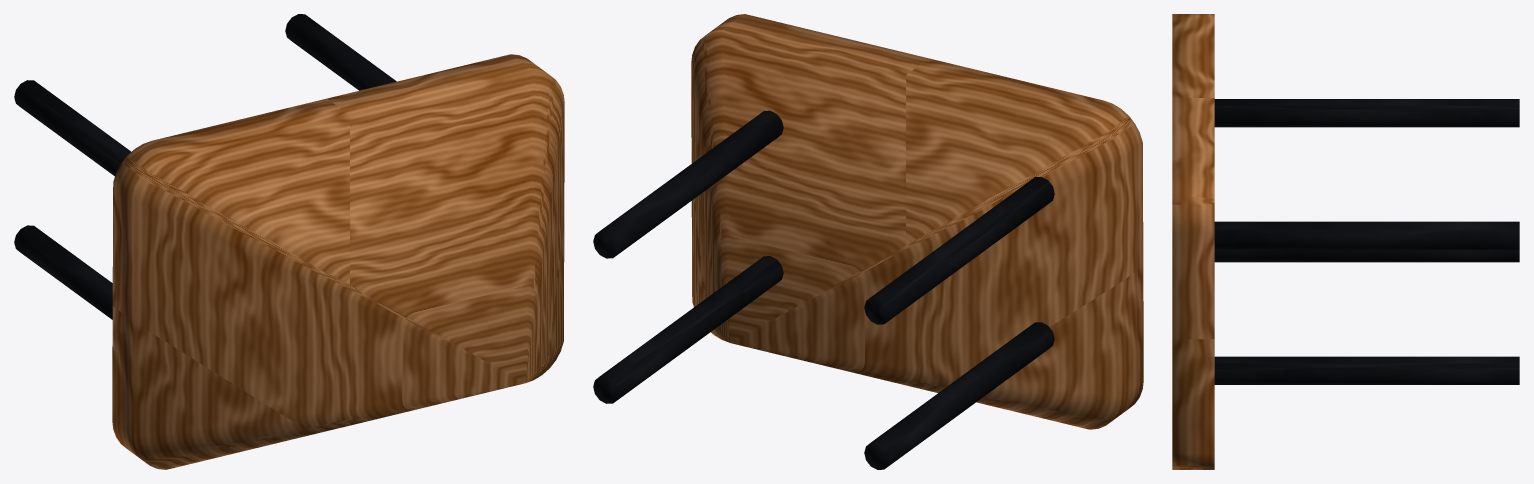
The model's file is TABLE_SIDE_001.glb.
The picture shows the model from 3 angles, left to right: view 1: azimuth 30°, elevation 25°; view 2: azimuth 150°, elevation 25°; view 3: azimuth 270°, elevation 25°; orthographic projection. The views are drawn at different scales.
Parts seen in each view (by area): view 1: top_000, leg_002, leg_001, leg_004; view 2: top_000, leg_004, leg_003, leg_001, leg_002; view 3: top_000, leg_002, leg_003, leg_004, leg_001.
Part boxes in pixels (left/top/right/bottom): top_000: left=112, top=54, right=564, bottom=469; leg_002: left=14, top=80, right=131, bottom=176; leg_001: left=14, top=225, right=112, bottom=319; leg_004: left=285, top=14, right=396, bottom=90; top_000: left=691, top=14, right=1143, bottom=429; leg_004: left=593, top=110, right=783, bottom=258; leg_003: left=593, top=256, right=783, bottom=403; leg_001: left=864, top=322, right=1054, bottom=469; leg_002: left=864, top=177, right=1054, bottom=324; top_000: left=1172, top=14, right=1214, bottom=469; leg_002: left=1214, top=99, right=1519, bottom=127; leg_003: left=1214, top=356, right=1519, bottom=384; leg_004: left=1214, top=221, right=1519, bottom=249; leg_001: left=1214, top=250, right=1519, bottom=262.
Bounding box in the file's own units: 0.65 × 0.45 × 0.49.
Materials: 2 (2 with a texture image).
